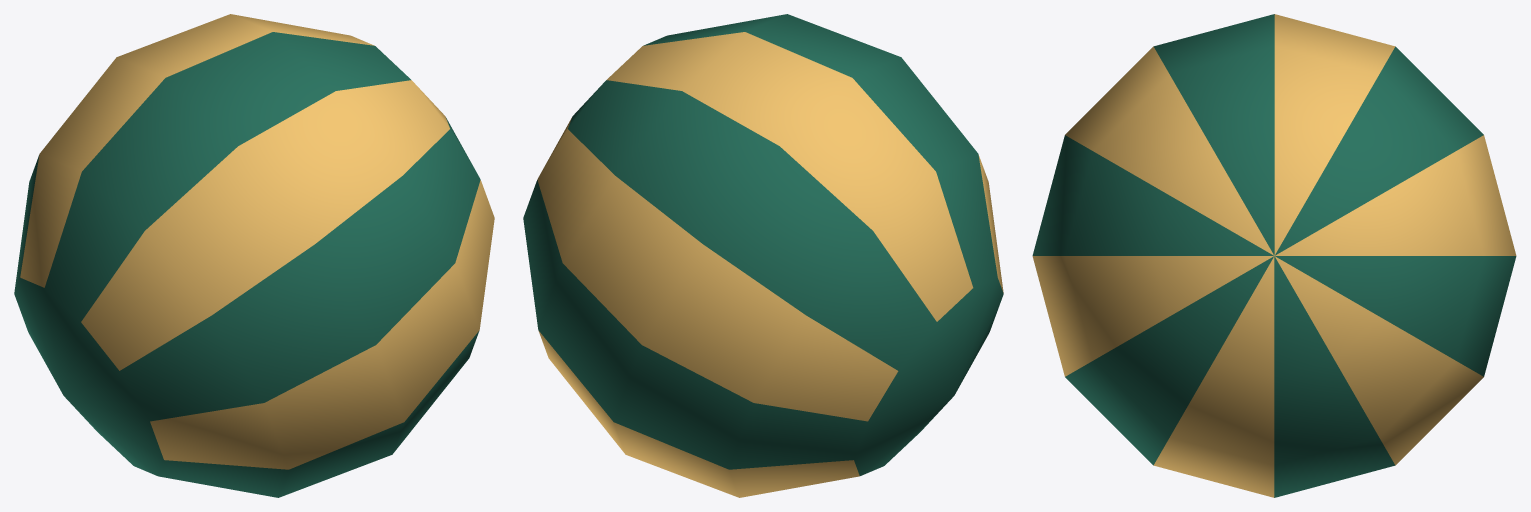
File: 06 Ball.FBX
3 renders of one model, left to right at view 1: azimuth 30°, elevation 25°; view 2: azimuth 150°, elevation 25°; view 3: azimuth 270°, elevation 25°, orthographic.
Parts seen in each view (by area): view 1: Ball; view 2: Ball; view 3: Ball.
Boxes of the visible parts, x1,y1,x2,y2 form: Ball: (14, 14, 494, 497); Ball: (523, 14, 1003, 497); Ball: (1032, 14, 1516, 497).
Bounding box in the file's own units: 299 × 299 × 300.
